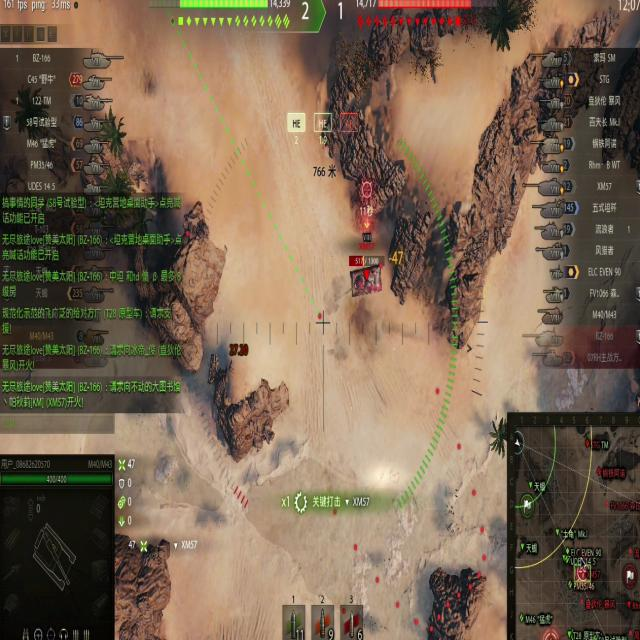tank: (347, 247, 389, 304)
